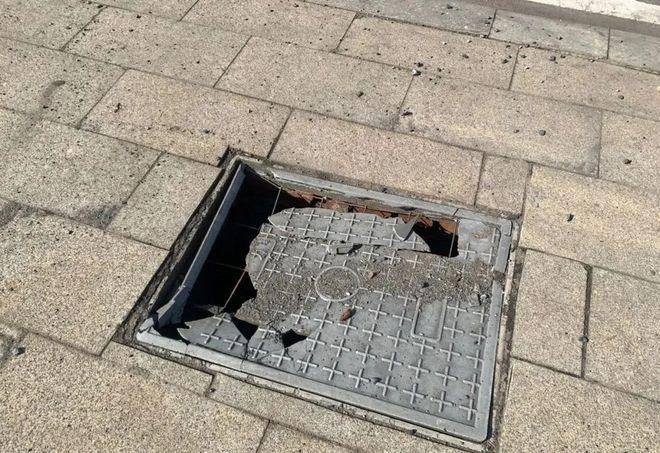broke: (111, 139, 514, 452)
